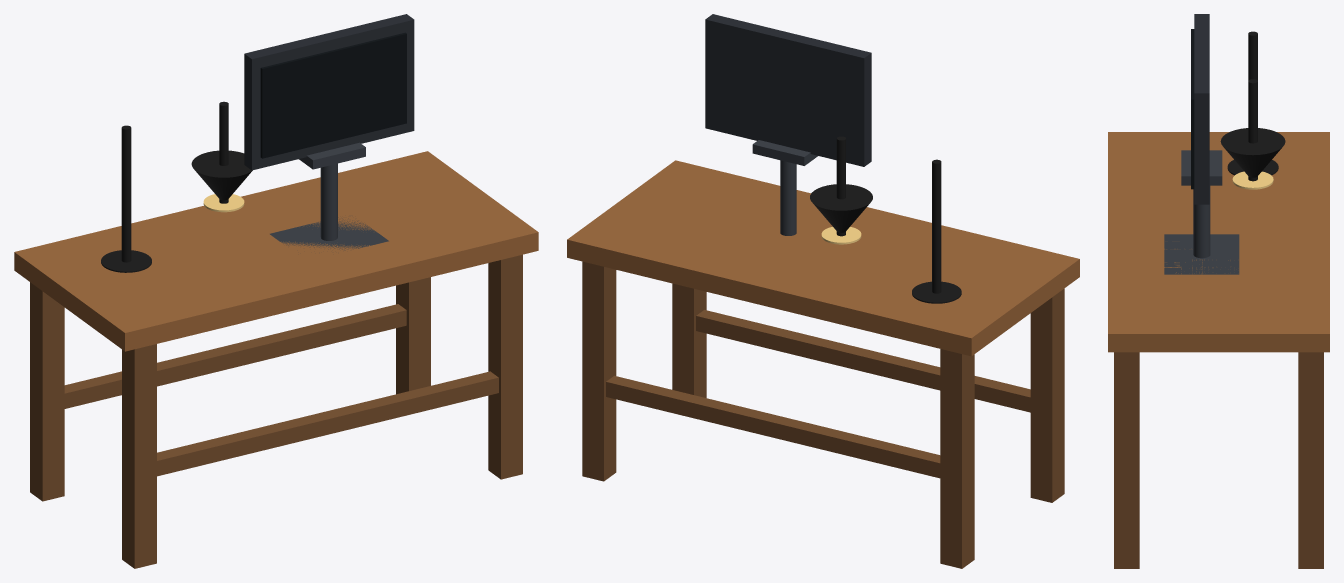
File: desk.glb
3 renders of one model, left to right at view 1: azimuth 30°, elevation 25°; view 2: azimuth 150°, elevation 25°; view 3: azimuth 270°, elevation 25°, orthographic. The views are drawn at different scales.
Parts seen in each view (by area): view 1: box_0, box_11, box_6, box_3, box_5, box_4, box_1, box_10, box_2, box_7, cone_16, cylinder_8 (+5 smaller); view 2: box_0, box_10, box_5, box_1, box_2, box_6, box_3, box_4, cone_16, cylinder_8, box_9, cylinder_13 (+3 smaller); view 3: box_0, box_2, box_4, box_10, box_7, cone_16, cylinder_8, box_9, cylinder_15, box_11, cylinder_17, cylinder_14 (+1 smaller).
Boxes of the visible parts, x1=… form: box_0: x1=14, y1=151, x2=538, y2=351; box_11: x1=260, y1=32, x2=406, y2=158; box_6: x1=157, y1=371, x2=498, y2=476; box_3: x1=122, y1=344, x2=156, y2=568; box_5: x1=64, y1=304, x2=406, y2=408; box_4: x1=488, y1=254, x2=522, y2=479; box_1: x1=30, y1=282, x2=64, y2=501; box_10: x1=244, y1=14, x2=414, y2=170; box_2: x1=396, y1=277, x2=430, y2=394; box_7: x1=270, y1=217, x2=388, y2=250; cone_16: x1=191, y1=150, x2=252, y2=200; cylinder_8: x1=320, y1=163, x2=337, y2=240; box_0: x1=567, y1=160, x2=1079, y2=356; box_10: x1=705, y1=14, x2=871, y2=166; box_5: x1=606, y1=375, x2=940, y2=478; box_1: x1=940, y1=349, x2=974, y2=568; box_2: x1=582, y1=261, x2=616, y2=481; box_6: x1=696, y1=310, x2=1030, y2=412; box_3: x1=1030, y1=288, x2=1064, y2=502; box_4: x1=672, y1=283, x2=706, y2=397; cone_16: x1=810, y1=184, x2=872, y2=232; cylinder_8: x1=780, y1=160, x2=796, y2=235; box_9: x1=752, y1=140, x2=817, y2=165; cylinder_13: x1=932, y1=207, x2=941, y2=293; box_0: x1=1108, y1=132, x2=1329, y2=352; box_2: x1=1298, y1=352, x2=1323, y2=568; box_4: x1=1114, y1=352, x2=1139, y2=568; box_10: x1=1194, y1=14, x2=1209, y2=204; box_7: x1=1164, y1=234, x2=1239, y2=274; cone_16: x1=1220, y1=128, x2=1285, y2=177; cylinder_8: x1=1193, y1=186, x2=1210, y2=258; box_9: x1=1181, y1=150, x2=1222, y2=185; cylinder_15: x1=1248, y1=79, x2=1257, y2=181; box_11: x1=1191, y1=29, x2=1194, y2=189; cylinder_17: x1=1232, y1=171, x2=1273, y2=189; cylinder_14: x1=1248, y1=31, x2=1257, y2=80.
Size of the model in its own units: 1.4 by 1.43 by 0.65.
